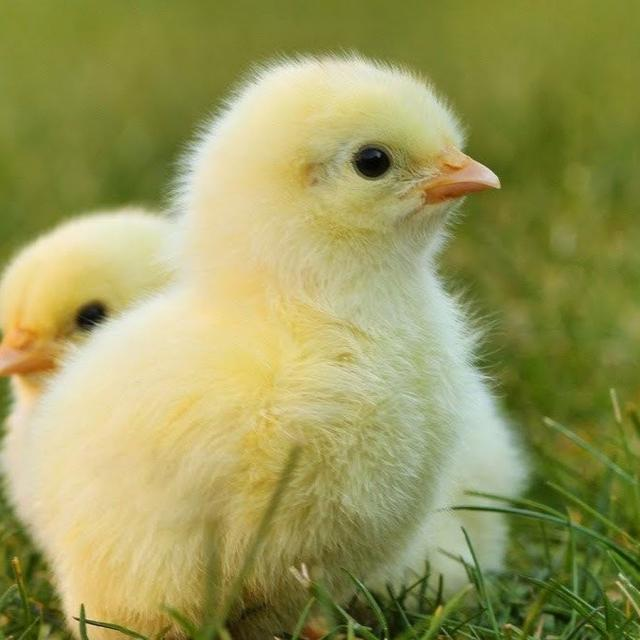poussin: (8, 65, 500, 640), (0, 196, 190, 391)
